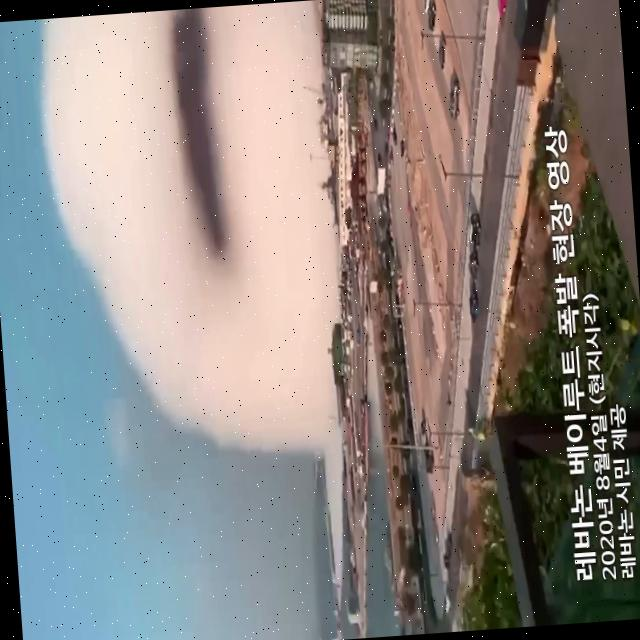explosion: (28, 0, 354, 492)
